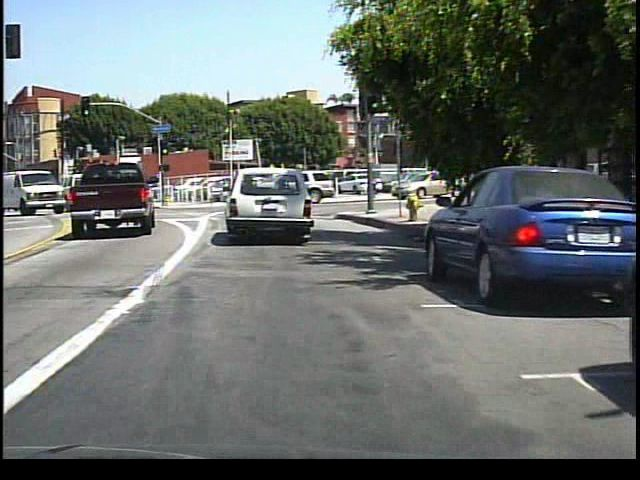person: (361, 166, 377, 201)
